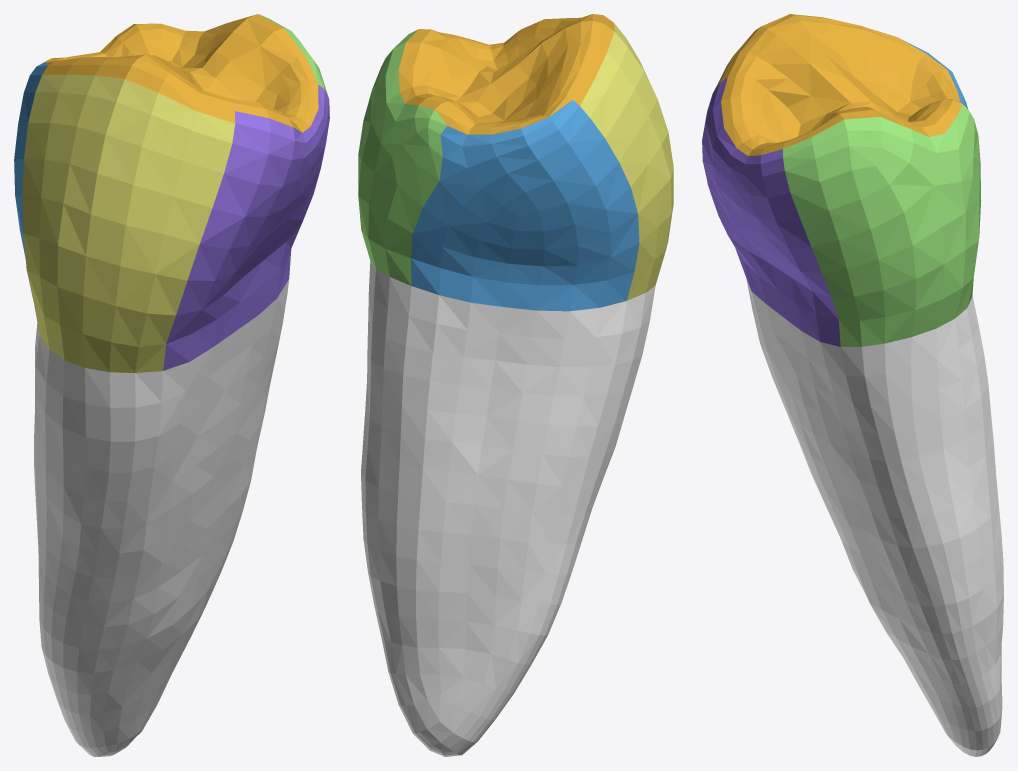
The model's file is tooth_45_annotated.glb.
The picture shows the model from 3 angles, left to right: view 1: azimuth 30°, elevation 25°; view 2: azimuth 150°, elevation 25°; view 3: azimuth 270°, elevation 25°; orthographic projection. The views are drawn at different scales.
Parts seen in each view (by area): view 1: FDI_44; view 2: FDI_44; view 3: FDI_44.
Part boxes in pixels (left/top/right/bottom): FDI_44: left=14, top=14, right=329, bottom=756; FDI_44: left=358, top=14, right=673, bottom=756; FDI_44: left=702, top=14, right=1003, bottom=756.
Size of the model in its own units: 0.00799 by 0.0202 by 0.00778.
